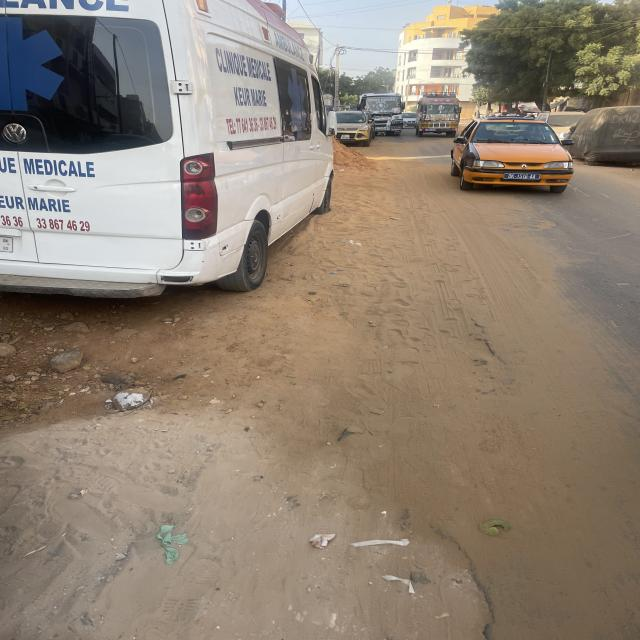bus tata: (359, 94, 403, 137)
car rapide: (416, 92, 463, 139)
fourgon: (1, 1, 334, 300)
particulier: (571, 106, 640, 166), (334, 111, 374, 147), (538, 112, 584, 139), (403, 114, 418, 129)
taxi: (451, 117, 574, 195)
